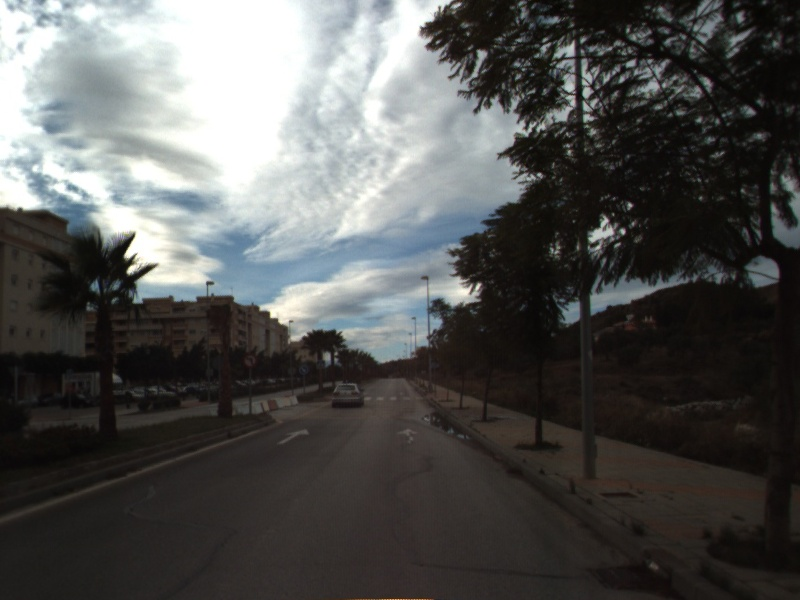STRAIGHT: (275, 427, 311, 446), (395, 426, 420, 446)
